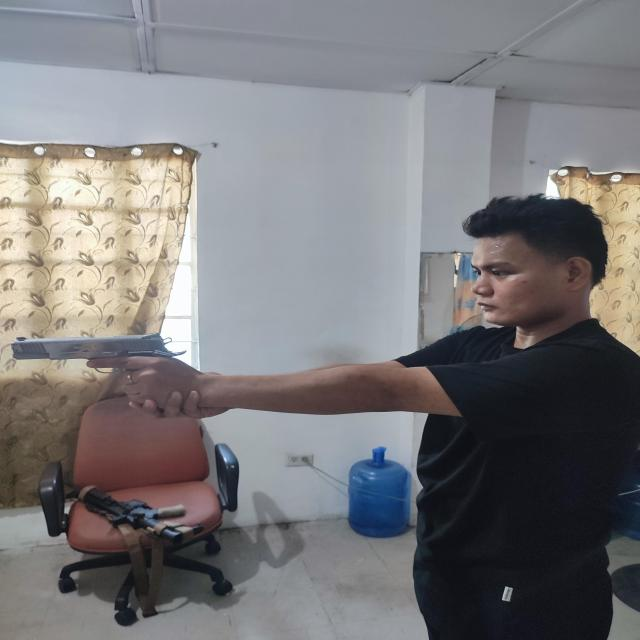pistol: (12, 332, 186, 377)
